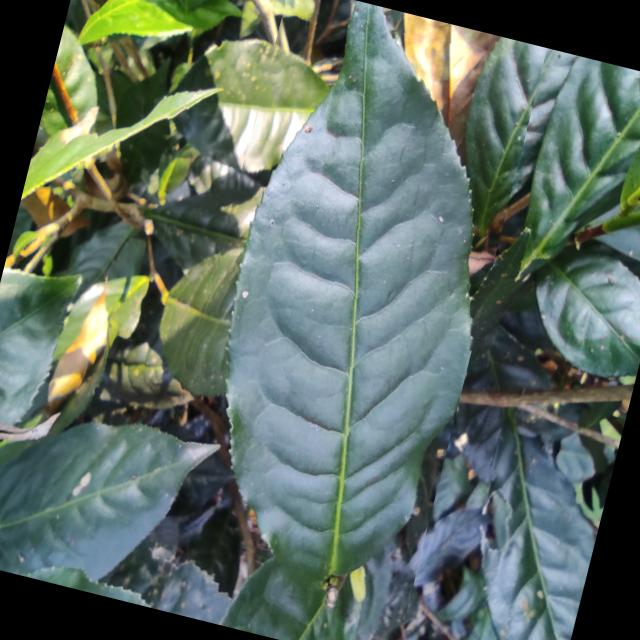Category D(7+ days, Not for Tea): (137, 0, 547, 627)
